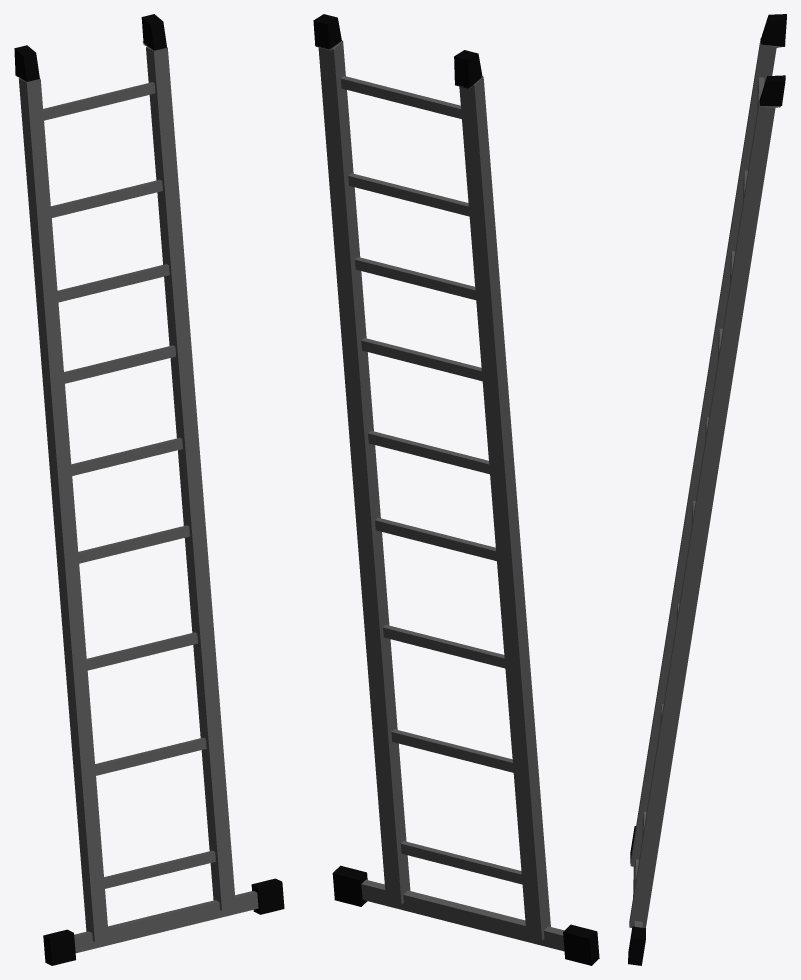
File: singlestair.fbx
3 renders of one model, left to right at view 1: azimuth 30°, elevation 25°; view 2: azimuth 150°, elevation 25°; view 3: azimuth 270°, elevation 25°, orthographic. The views are drawn at different scales.
Visible parts, largest first — view 1: SM_Stairs_01; view 2: SM_Stairs_01; view 3: SM_Stairs_01.
Boxes of the visible parts, x1,y1,x2,y2 form: SM_Stairs_01: [14, 14, 284, 965]; SM_Stairs_01: [313, 14, 599, 965]; SM_Stairs_01: [628, 14, 786, 965].
Bounding box in the file's own units: 88.31 × 311 × 52.13.
